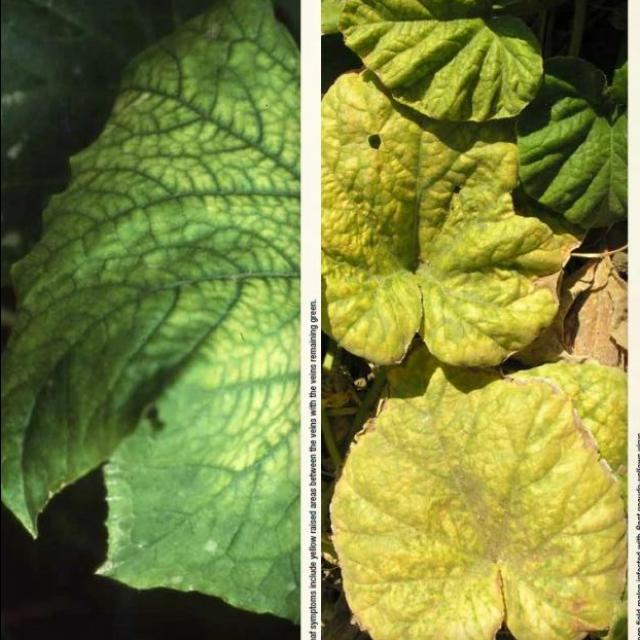Whitefly: (11, 0, 300, 626), (325, 365, 636, 640), (317, 61, 582, 365), (339, 0, 535, 120), (514, 352, 626, 478)
